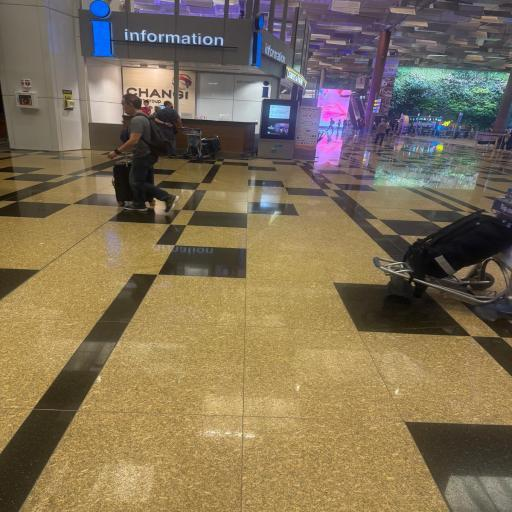person_with_luggage_left: (107, 94, 180, 214)
